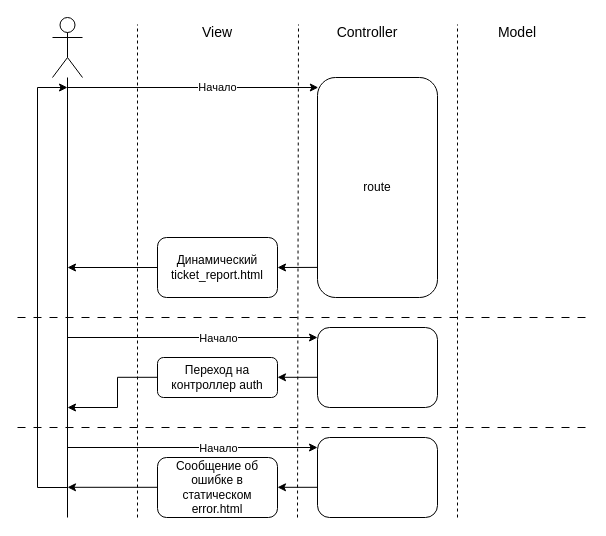
Image size: 606x536. Some labels were removed from this diagram. The shapes that lost their labels are listed below. From the top down, each one's centre as x and y in pixels, then its label:
pixel 377 367: Пользователь не авторизован
pixel 377 477: У пользователя недостаточно прав
